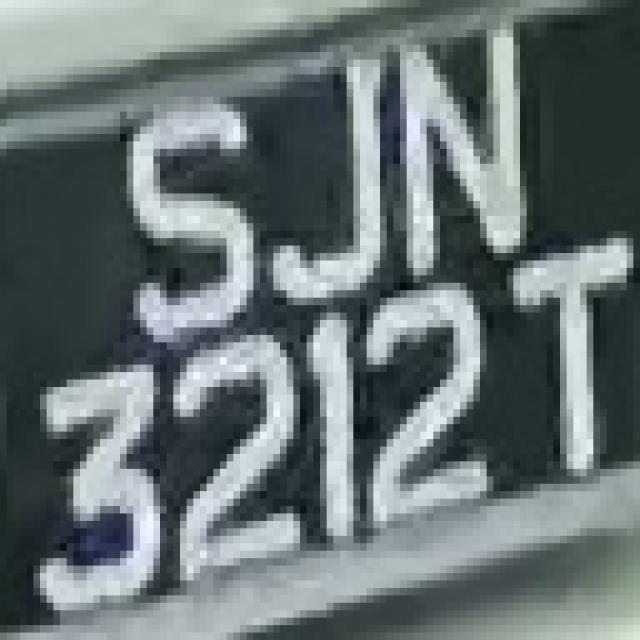1: (313, 298, 380, 558)
2: (153, 335, 300, 580), (354, 276, 494, 528)
3: (27, 350, 166, 610)
J: (267, 45, 400, 305)
N: (387, 15, 533, 260)
S: (100, 97, 273, 342)
T: (480, 216, 633, 484)
